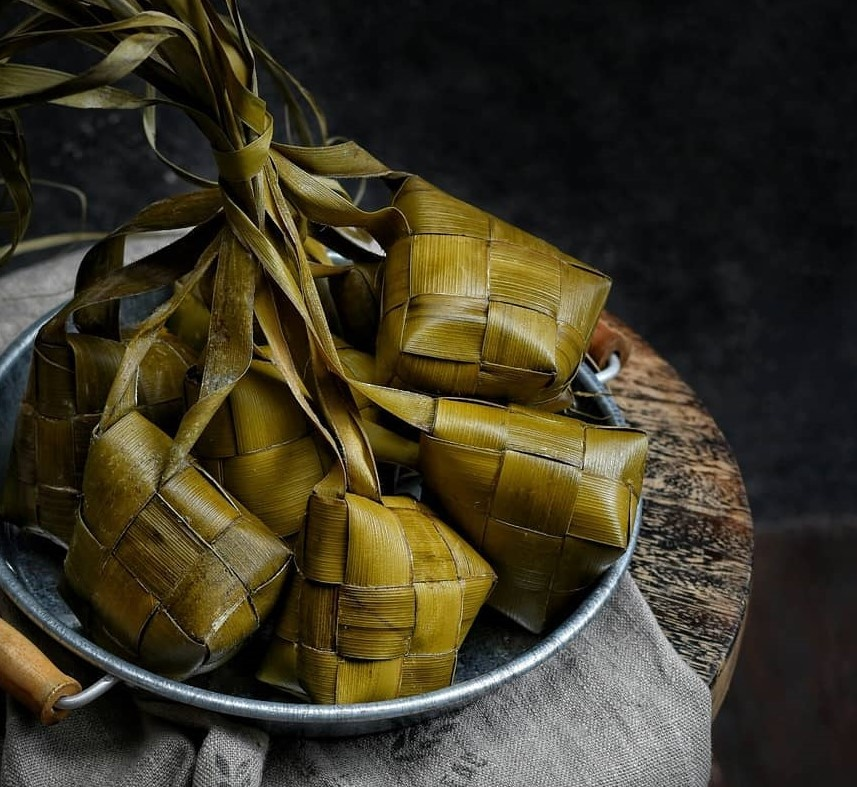ketupat: (62, 407, 295, 685), (374, 170, 614, 410), (422, 398, 649, 635), (266, 487, 500, 708)
